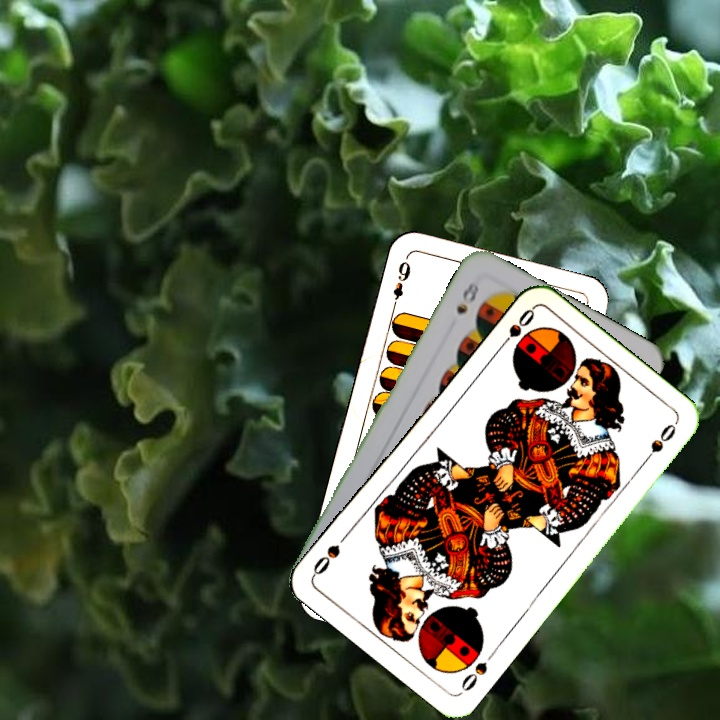E9: (388, 257, 413, 313)
S8: (452, 274, 482, 317)
SO: (493, 304, 537, 354), (457, 657, 491, 694)
